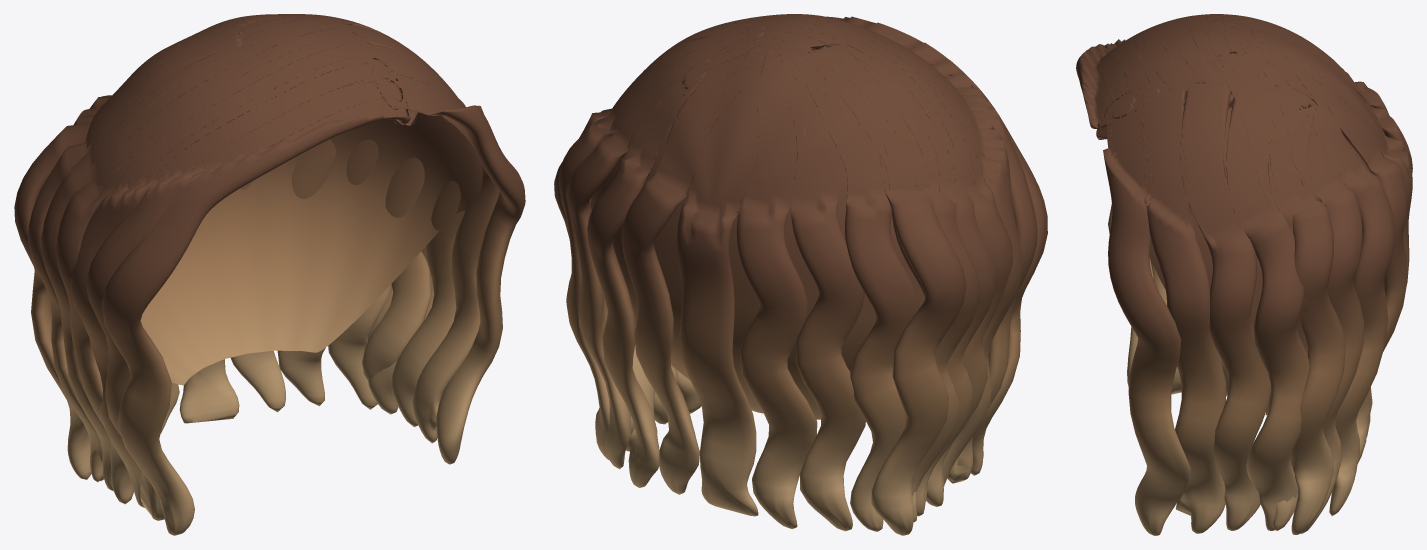
File: Feminine-curls-headband261-hair-ombre.glb
3 renders of one model, left to right at view 1: azimuth 30°, elevation 25°; view 2: azimuth 150°, elevation 25°; view 3: azimuth 270°, elevation 25°, orthographic. The views are drawn at different scales.
Visible parts, largest first — view 1: 226 hair / Hair / sculpted 0.001, 226 hair / Hair / sculpted 1.001, 226 hair / Hair / sculpted 1.002, 226 hair / Hair / sculpted 2.001; view 2: 226 hair / Hair / sculpted 0.001, 226 hair / Hair / sculpted 2.001, 226 hair / Hair / sculpted 1.002, 226 hair / Hair / sculpted 1.001; view 3: 226 hair / Hair / sculpted 1.002, 226 hair / Hair / sculpted 2.001, 226 hair / Hair / sculpted 0.001, 226 hair / Hair / sculpted 1.001.
Part boxes in pixels (box(x1,y1,x2,y2)): 226 hair / Hair / sculpted 0.001: box(14, 14, 465, 535); 226 hair / Hair / sculpted 1.001: box(140, 112, 482, 385); 226 hair / Hair / sculpted 1.002: box(41, 14, 525, 520); 226 hair / Hair / sculpted 2.001: box(27, 14, 499, 507); 226 hair / Hair / sculpted 0.001: box(587, 14, 1047, 535); 226 hair / Hair / sculpted 2.001: box(558, 14, 1023, 531); 226 hair / Hair / sculpted 1.002: box(554, 17, 1037, 531); 226 hair / Hair / sculpted 1.001: box(590, 122, 924, 419); 226 hair / Hair / sculpted 1.002: box(1099, 14, 1407, 535); 226 hair / Hair / sculpted 2.001: box(1117, 14, 1412, 534); 226 hair / Hair / sculpted 0.001: box(1076, 15, 1412, 530); 226 hair / Hair / sculpted 1.001: box(1149, 106, 1369, 415).
Size of the model in its own units: 1.09 by 1.09 by 0.769.
